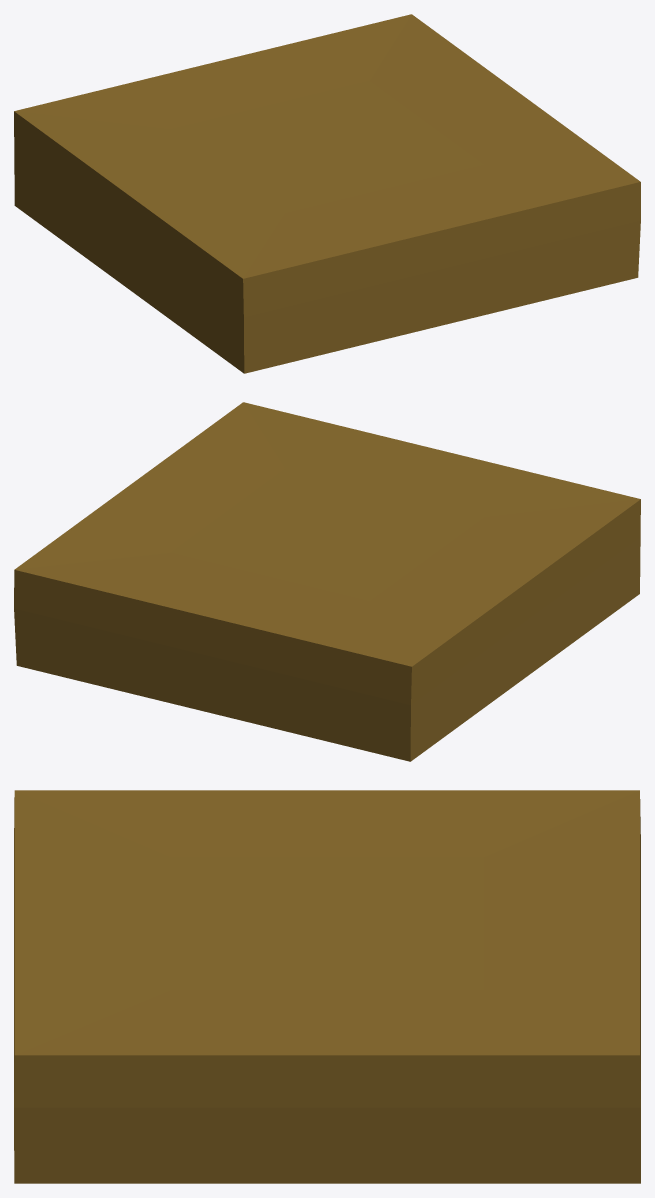
Rendered from uncultivated_bed3.fbx.
3 views of the same model, one above another, from view 1: azimuth 30°, elevation 25°; view 2: azimuth 150°, elevation 25°; view 3: azimuth 270°, elevation 25° (orthographic). The views are drawn at different scales.
Visible parts, largest first — view 1: Куб.003; view 2: Куб.003; view 3: Куб.003.
Boxes of the visible parts, x1,y1,x2,y2 form: Куб.003: [14, 14, 640, 373]; Куб.003: [14, 402, 640, 761]; Куб.003: [14, 790, 640, 1183].
Bounding box in the file's own units: 70 × 16 × 70.
Materials: 1 (1 with a texture image).
